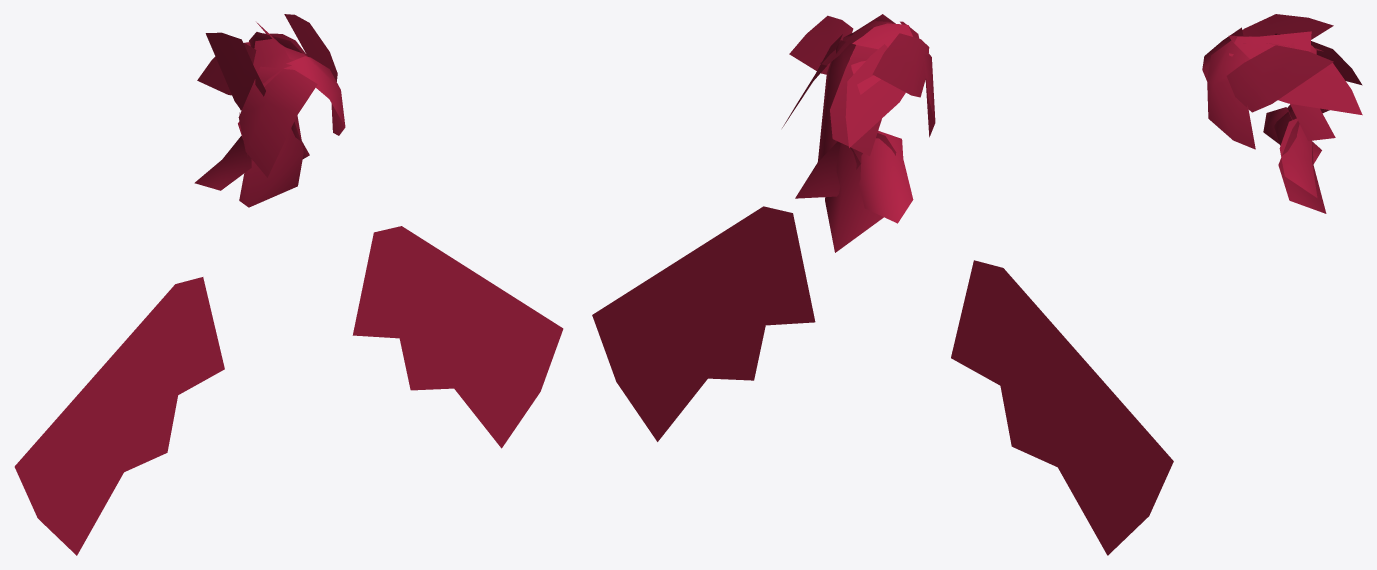
Rendered from harpy_extra.fbx.
The picture shows the model from 3 angles, left to right: view 1: azimuth 30°, elevation 25°; view 2: azimuth 150°, elevation 25°; view 3: azimuth 270°, elevation 25°; orthographic projection. The views are drawn at different scales.
Parts seen in each view (by area): view 1: wing1, wing, feather17, pPlane1, feather14, feather18, pPlane3, feather12, feather15, feather6; view 2: wing, wing1, pPlane3, pPlane1, feather6, feather14, feather10, feather12, feather8, pPlane2, feather15, feather17; view 3: feather12, feather18, feather4, pPlane2, pPlane1, feather14, feather16, feather8, feather6, pPlane3, feather17.
Boxes of the visible parts, x1,y1,x2,y2 form: wing1: (352, 226, 563, 448); wing: (14, 277, 224, 555); feather17: (238, 66, 317, 177); pPlane1: (238, 115, 303, 207); feather14: (205, 32, 265, 110); feather18: (284, 56, 345, 135); pPlane3: (194, 136, 252, 190); feather12: (284, 14, 337, 81); feather15: (244, 39, 294, 86); feather6: (197, 43, 256, 95); wing: (951, 260, 1173, 555); wing1: (592, 206, 815, 441); pPlane3: (859, 131, 913, 223); pPlane1: (825, 133, 896, 252); feather6: (845, 44, 905, 147); feather14: (872, 33, 929, 97); feather10: (830, 45, 881, 155); feather12: (789, 15, 853, 74); feather8: (818, 40, 855, 161); pPlane2: (795, 141, 860, 198); feather15: (850, 23, 912, 94); feather17: (900, 21, 935, 137); feather12: (1226, 45, 1333, 112); feather18: (1207, 40, 1255, 149); feather4: (1278, 63, 1362, 115); pPlane2: (1279, 118, 1317, 197); pPlane1: (1274, 105, 1326, 213); feather14: (1242, 14, 1333, 39); feather16: (1229, 31, 1311, 59); feather8: (1288, 42, 1335, 140); feather6: (1274, 33, 1362, 85); pPlane3: (1263, 107, 1321, 163); feather17: (1202, 27, 1243, 81).
Bounding box in the file's own units: 2.54 × 2.04 × 0.6848.
1 material, 1 textured.
